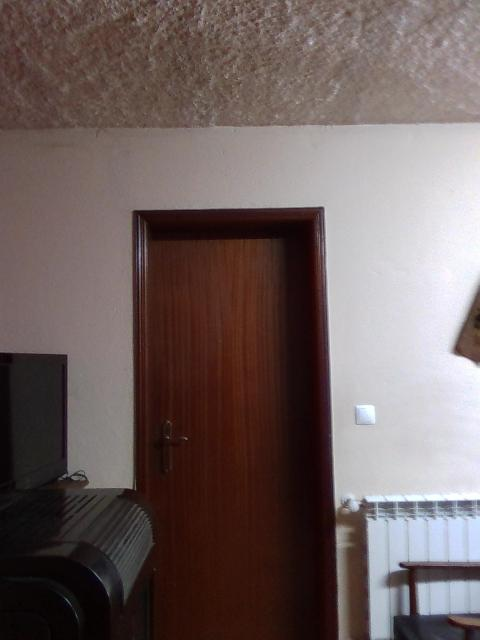door: (149, 227, 306, 633)
